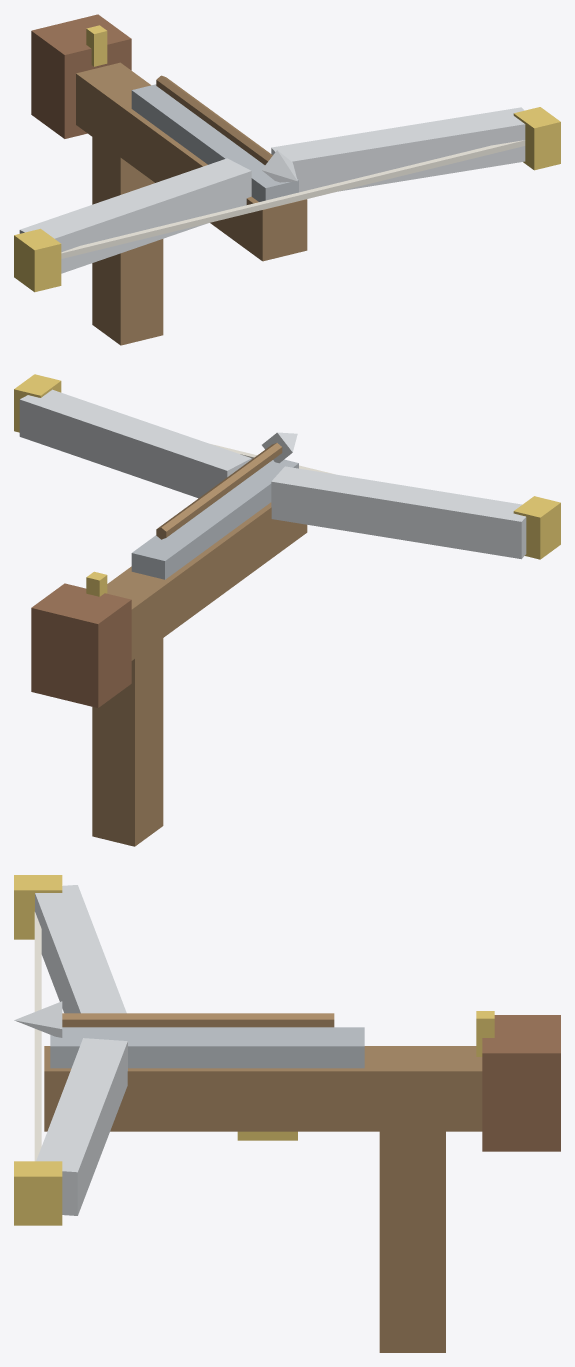
File: crossbow.glb
3 views of the same model, one above another, from view 1: azimuth 30°, elevation 25°; view 2: azimuth 150°, elevation 25°; view 3: azimuth 270°, elevation 25° (orthographic). The views are drawn at different scales.
Visible parts, largest first — view 1: crossbow_stock, crossbow_limb_1, crossbow_limb_-1, crossbow_grip, crossbow_butt, crossbow_rail, crossbow_string, crossbow_tip_-1, crossbow_tip_1, crossbow_bolt, crossbow_sight, crossbow_bolt_tip; view 2: crossbow_limb_-1, crossbow_limb_1, crossbow_grip, crossbow_butt, crossbow_stock, crossbow_rail, crossbow_tip_-1, crossbow_bolt, crossbow_tip_1; view 3: crossbow_stock, crossbow_grip, crossbow_rail, crossbow_butt, crossbow_limb_1, crossbow_limb_-1, crossbow_bolt, crossbow_tip_1, crossbow_tip_-1, crossbow_string, crossbow_bolt_tip, crossbow_sight (+1 smaller).
Part boxes in pixels (left/top/right/bottom): crossbow_stock: left=76, top=62, right=307, bottom=261; crossbow_limb_1: left=271, top=107, right=525, bottom=192; crossbow_limb_-1: left=19, top=158, right=251, bottom=273; crossbow_grip: left=92, top=137, right=163, bottom=345; crossbow_butt: left=31, top=14, right=131, bottom=138; crossbow_rail: left=131, top=84, right=298, bottom=201; crossbow_string: left=61, top=140, right=525, bottom=258; crossbow_tip_-1: left=14, top=228, right=61, bottom=292; crossbow_tip_1: left=513, top=107, right=560, bottom=170; crossbow_bolt: left=156, top=75, right=272, bottom=164; crossbow_sight: left=86, top=25, right=107, bottom=66; crossbow_bolt_tip: left=262, top=150, right=297, bottom=182; crossbow_limb_-1: left=271, top=466, right=526, bottom=559; crossbow_limb_1: left=19, top=389, right=251, bottom=498; crossbow_grip: left=92, top=638, right=163, bottom=846; crossbow_butt: left=31, top=583, right=131, bottom=707; crossbow_stock: left=107, top=502, right=307, bottom=660; crossbow_rail: left=131, top=459, right=298, bottom=579; crossbow_tip_-1: left=513, top=496, right=560, bottom=559; crossbow_bolt: left=156, top=443, right=282, bottom=539; crossbow_tip_1: left=14, top=374, right=61, bottom=432; crossbow_stock: left=44, top=1046, right=482, bottom=1131; crossbow_grip: left=379, top=1131, right=445, bottom=1352; crossbow_rail: left=50, top=1027, right=364, bottom=1068; crossbow_butt: left=482, top=1015, right=560, bottom=1151; crossbow_limb_1: left=36, top=1038, right=127, bottom=1215; crossbow_limb_-1: left=35, top=885, right=126, bottom=1013; crossbow_bolt: left=62, top=1013, right=334, bottom=1027; crossbow_tip_1: left=14, top=1161, right=62, bottom=1225; crossbow_tip_-1: left=14, top=875, right=62, bottom=939; crossbow_string: left=34, top=912, right=41, bottom=1161; crossbow_bolt_tip: left=14, top=1001, right=62, bottom=1037; crossbow_sight: left=476, top=1011, right=494, bottom=1056.
Bounding box in the file's own units: 1.18 × 0.62 × 0.905.
